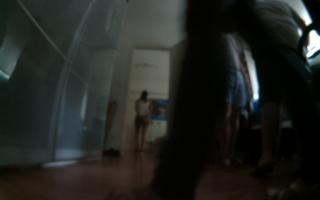person: (105, 1, 320, 200), (253, 1, 313, 175), (216, 26, 255, 171), (131, 87, 151, 164)
